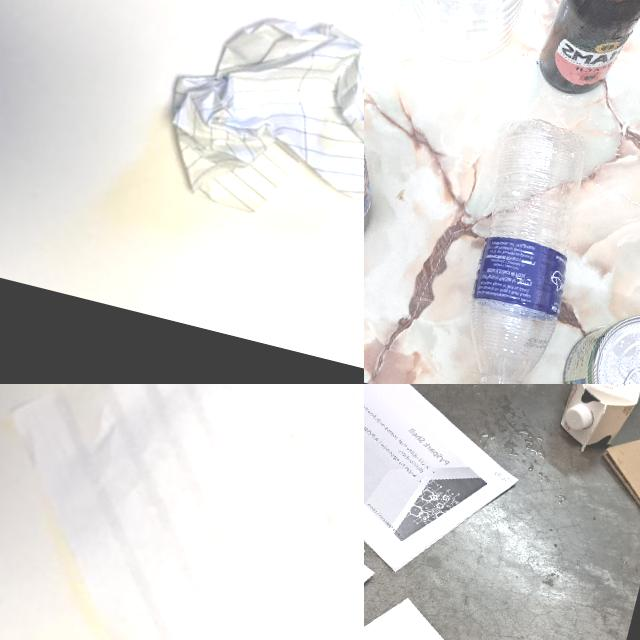aba de lata: (609, 360, 640, 384)
caixinha: (554, 384, 640, 461)
garrafa de vidro: (531, 0, 640, 109), (364, 42, 400, 268)
garrafa plástica: (438, 109, 601, 384), (367, 0, 583, 72)
lata: (550, 295, 640, 384)
papel: (0, 384, 364, 640), (146, 0, 364, 243), (364, 384, 535, 595), (364, 563, 622, 640)
papelão: (588, 408, 640, 523)
tampa plástica: (560, 397, 593, 436), (468, 377, 525, 384)
